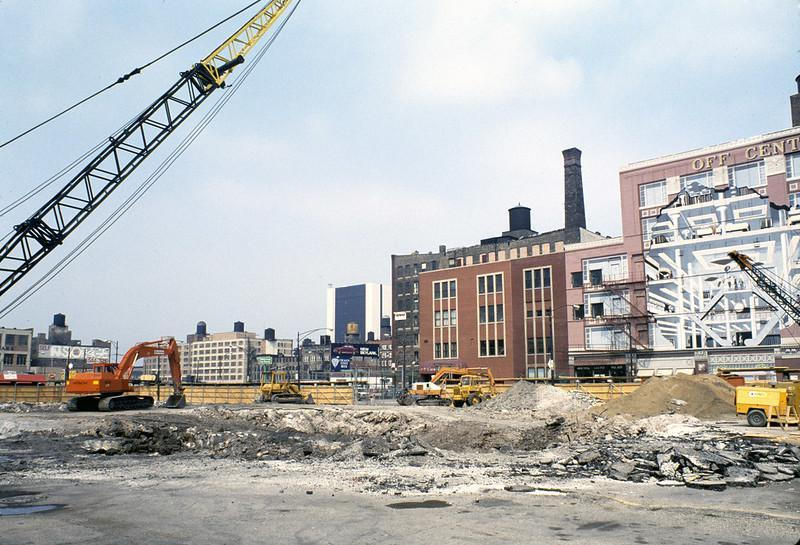EXCAVATORS: (65, 339, 188, 411)
